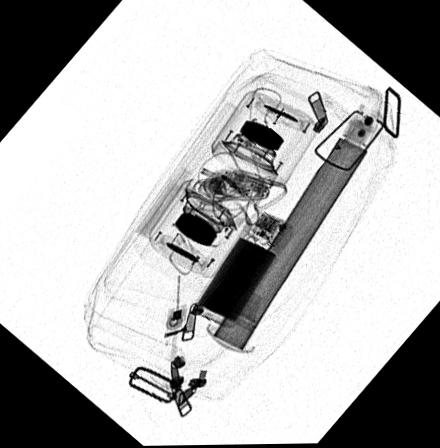Powerbank: (193, 209, 294, 330)
